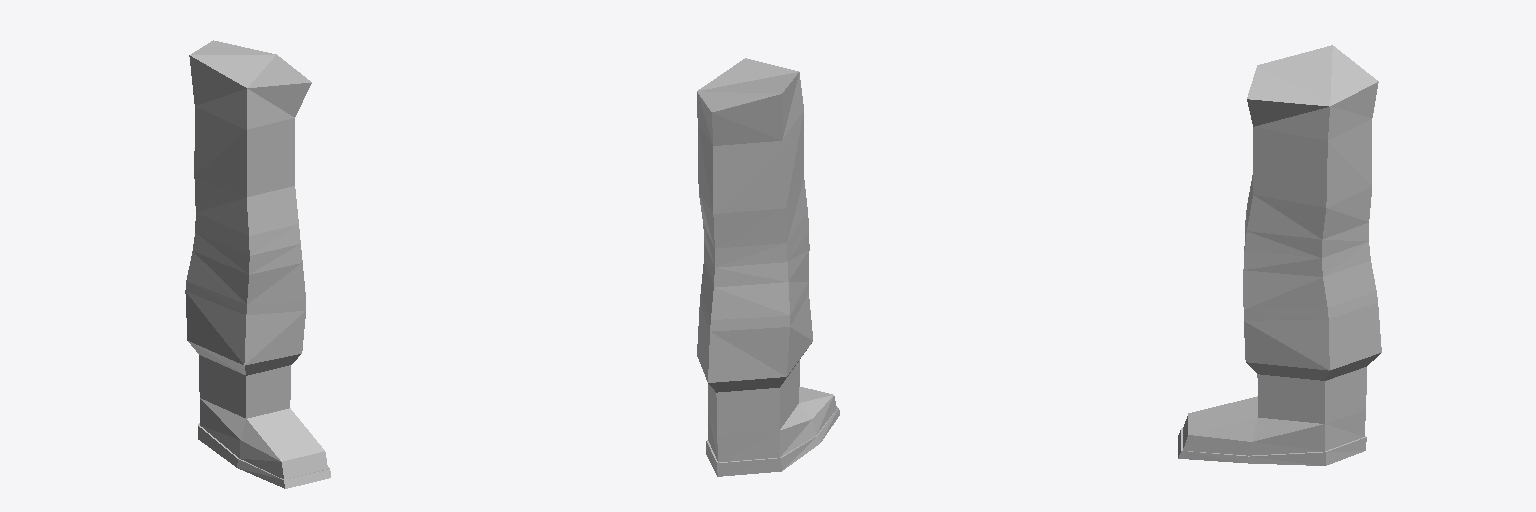
Rendered from astronauta_reloded_leftleg.obj.
The picture shows the model from 3 angles: view 1: azimuth 30°, elevation 25°; view 2: azimuth 150°, elevation 25°; view 3: azimuth 270°, elevation 25°; orthographic projection.
Parts seen in each view (by area): view 1: Astronauta_Cubo; view 2: Astronauta_Cubo; view 3: Astronauta_Cubo.
Part boxes in pixels (left/top/right/bottom): Astronauta_Cubo: left=185, top=40, right=330, bottom=488; Astronauta_Cubo: left=697, top=58, right=839, bottom=476; Astronauta_Cubo: left=1178, top=45, right=1381, bottom=465.
Bounding box in the file's own units: 0.1566 × 0.6173 × 0.298.